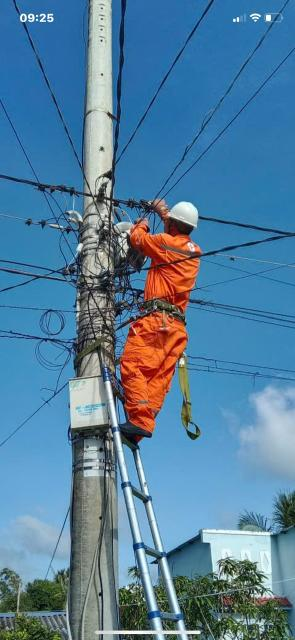gloves: (129, 213, 155, 237), (146, 195, 172, 217)
harness: (135, 289, 195, 330)
helmet: (169, 199, 209, 236)
shoes: (111, 421, 161, 444)
